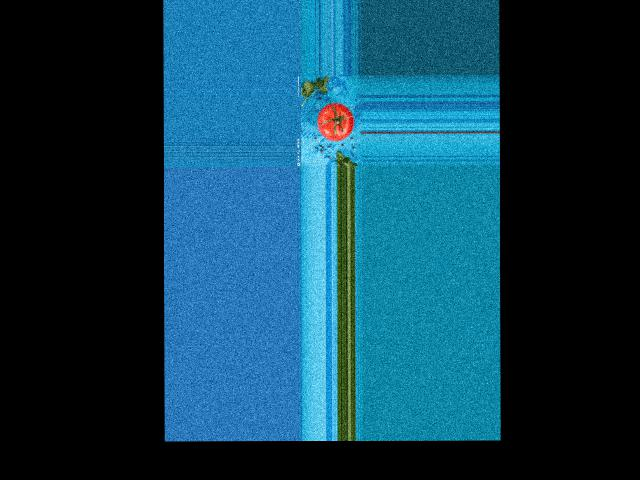tomato: (317, 102, 353, 140)
